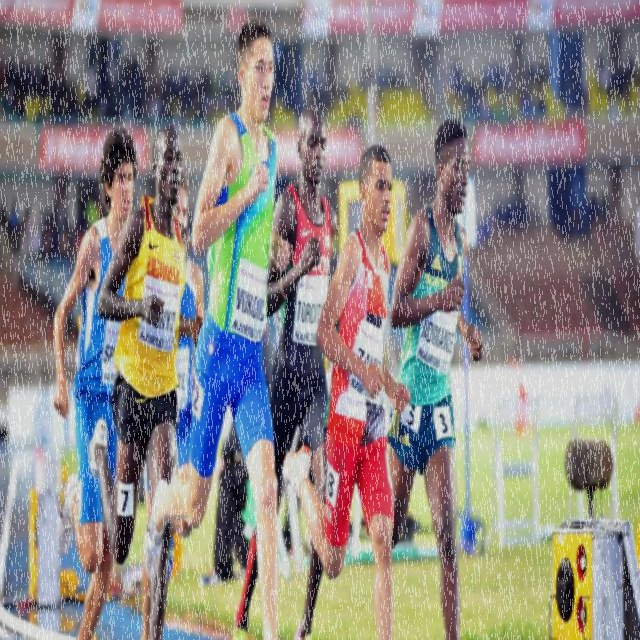pessoa: (140, 11, 294, 638), (279, 138, 415, 639), (225, 101, 342, 638), (86, 117, 193, 636), (386, 115, 486, 639), (50, 125, 140, 639), (142, 166, 208, 638), (0, 46, 215, 122), (446, 58, 576, 124), (1, 186, 90, 262), (309, 58, 402, 112), (592, 34, 640, 118)
